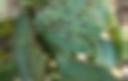Tomato leaf bacterial spot: (19, 0, 119, 49), (11, 3, 63, 81), (0, 17, 26, 81)
